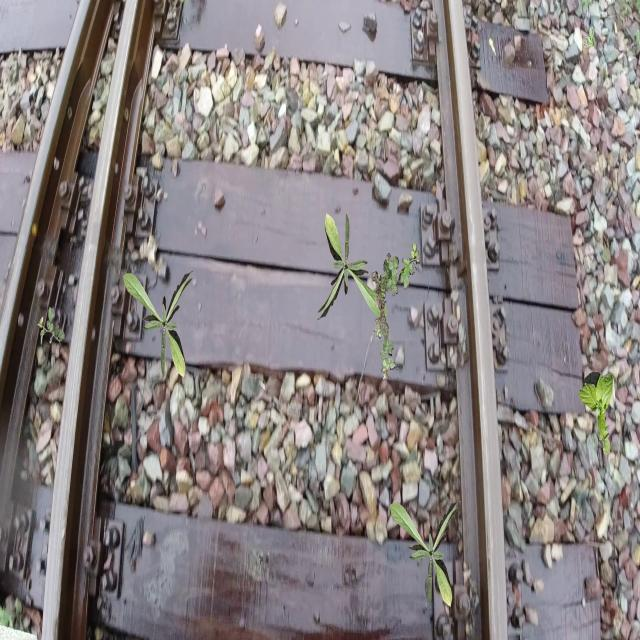Plant: (390, 500, 462, 608), (316, 212, 388, 320), (123, 271, 194, 379), (372, 243, 420, 381), (578, 372, 614, 456), (37, 307, 64, 348), (583, 26, 597, 46)
